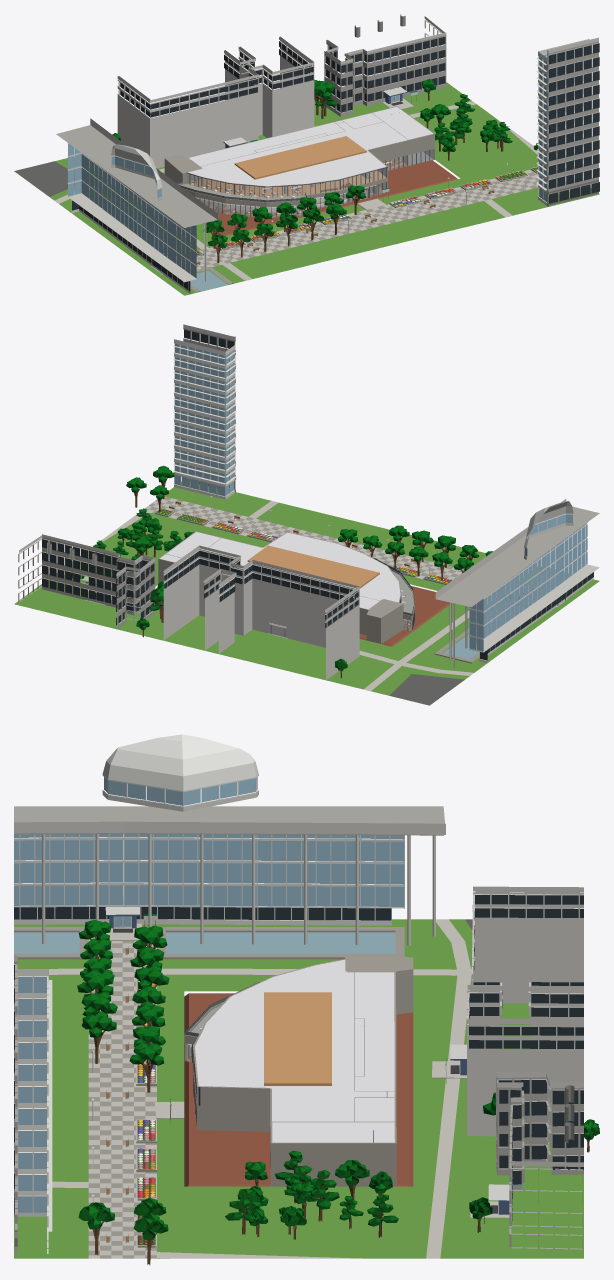
Rendered from research2.fbx.
3 renders of one model, top to bottom at view 1: azimuth 30°, elevation 25°; view 2: azimuth 150°, elevation 25°; view 3: azimuth 270°, elevation 25°, orthographic. The views are drawn at different scales.
Parts seen in each view (by area): view 1: ext_research2, wall_research2, ext_research2_trees, floor_research2, furn_research2_06_seats2; view 2: ext_research2, wall_research2, ext_research2_trees, floor_research2; view 3: ext_research2, wall_research2, ext_research2_trees, floor_research2.
Part boxes in pixels (left/top/right/bottom): ext_research2: left=14, top=14, right=599, bottom=295; wall_research2: left=164, top=106, right=434, bottom=217; ext_research2_trees: left=112, top=79, right=538, bottom=262; floor_research2: left=181, top=158, right=457, bottom=235; furn_research2_06_seats2: left=190, top=178, right=351, bottom=195; ext_research2: left=14, top=324, right=599, bottom=705; wall_research2: left=158, top=531, right=414, bottom=643; ext_research2_trees: left=72, top=465, right=492, bottom=677; floor_research2: left=156, top=570, right=449, bottom=646; ext_research2: left=14, top=734, right=583, bottom=1258; wall_research2: left=184, top=955, right=413, bottom=1186; ext_research2_trees: left=77, top=919, right=599, bottom=1265; floor_research2: left=184, top=993, right=413, bottom=1186.
Size of the model in its own units: 147 by 51.67 by 103.
